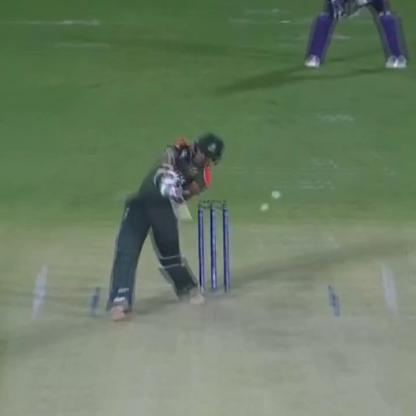ball: (268, 184, 284, 205), (258, 202, 269, 216)
bat: (158, 166, 192, 234)
pitch: (0, 236, 416, 412)
